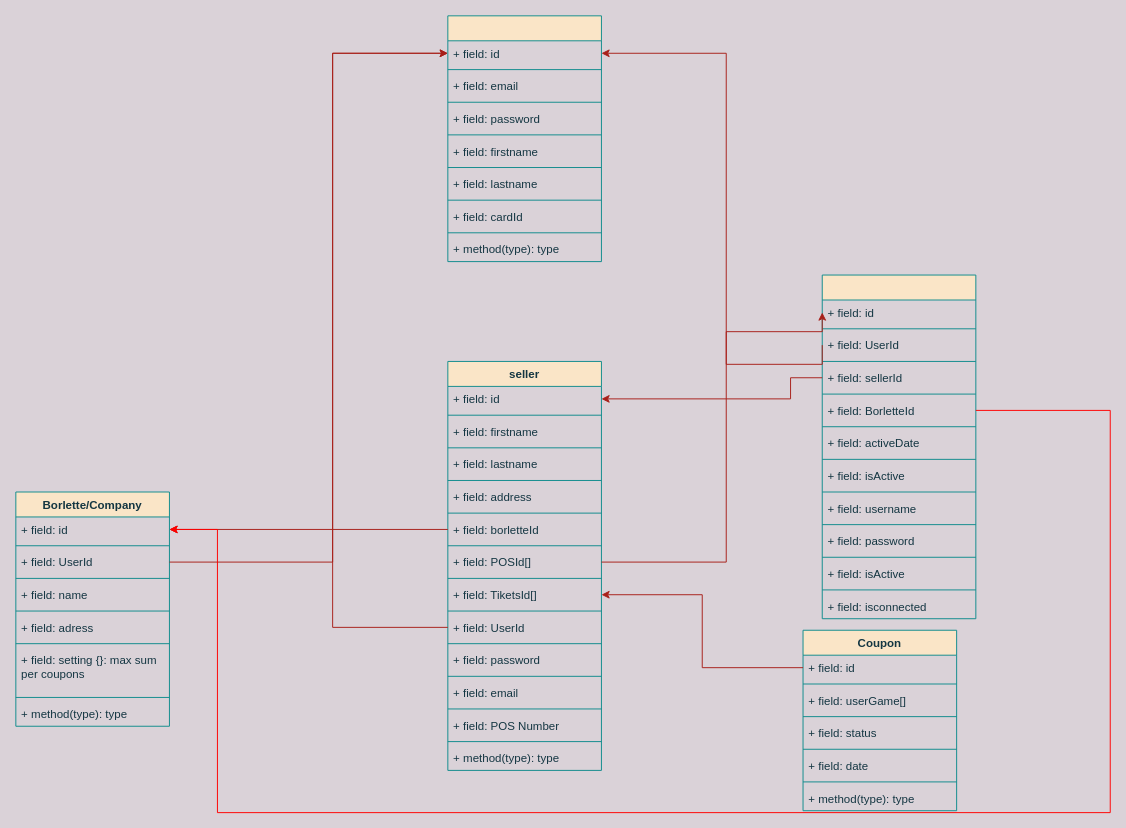
Image size: 1126x828. Some labels were removed from this diagram. The box of each missing label's shape, as (x1, y1, x2, y2) in pixels:
POS|Application: (821, 274, 976, 619)
User: (447, 15, 601, 262)
